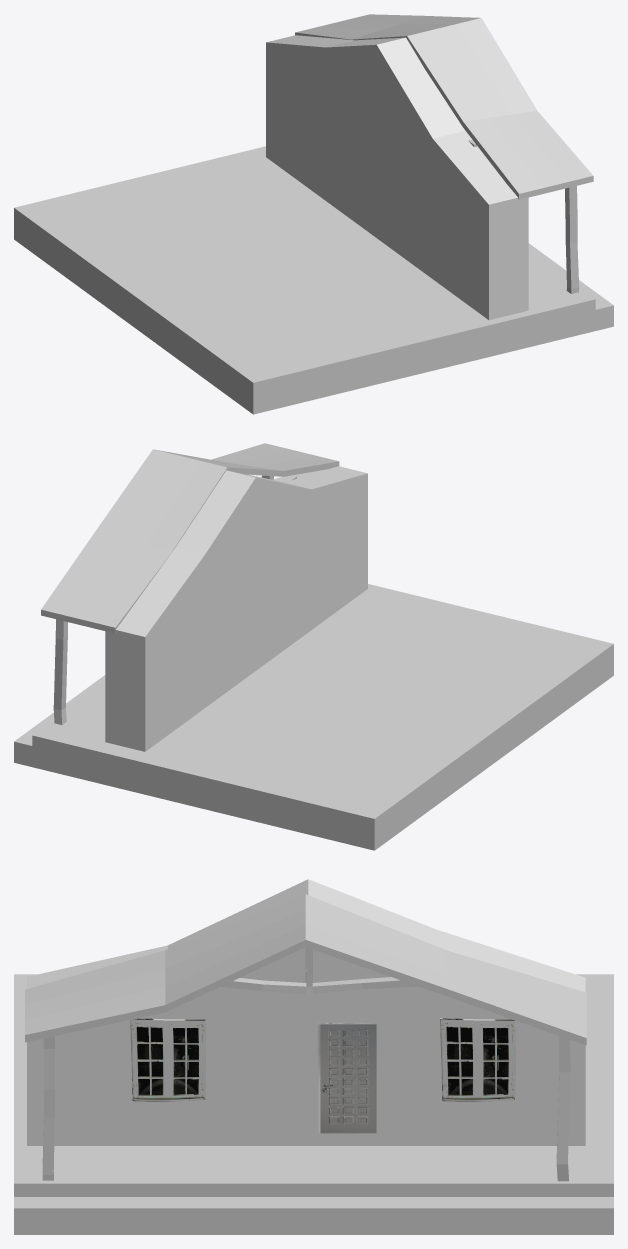
Rendered from office front fixed.fbx.
3 renders of one model, top to bottom at view 1: azimuth 30°, elevation 25°; view 2: azimuth 150°, elevation 25°; view 3: azimuth 270°, elevation 25°, orthographic. The views are drawn at different scales.
Parts seen in each view (by area): view 1: Cube.005, Cube.039, Cube.009, Cube.010; view 2: Cube.005, Cube.039, Cube.009, Cube.010; view 3: Cube.039, Cube.005, Cube.009, Cube.003, окно.001, окно.005, Cube.010, Cube.050.
Boxes of the visible parts, bbox=[...] form: Cube.005: bbox=[14, 146, 613, 414]; Cube.039: bbox=[266, 35, 528, 320]; Cube.009: bbox=[295, 14, 593, 199]; Cube.010: bbox=[565, 186, 579, 293]; Cube.005: bbox=[14, 584, 613, 850]; Cube.039: bbox=[105, 466, 367, 751]; Cube.009: bbox=[41, 443, 339, 633]; Cube.010: bbox=[53, 475, 273, 724]; Cube.039: bbox=[27, 879, 585, 1145]; Cube.005: bbox=[14, 974, 613, 1234]; Cube.009: bbox=[25, 894, 586, 1045]; Cube.003: bbox=[318, 1022, 376, 1133]; окно.001: bbox=[440, 1018, 515, 1101]; окно.005: bbox=[130, 1018, 205, 1101]; Cube.010: bbox=[42, 1036, 570, 1181]; Cube.050: bbox=[221, 947, 418, 994].
Bounding box in the file's own units: 1784 × 1075 × 2050.
